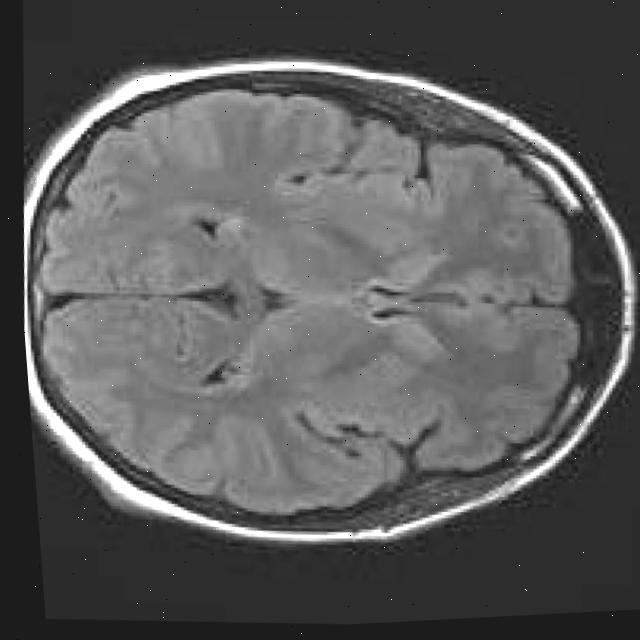NoTumor: (4, 15, 640, 590)
